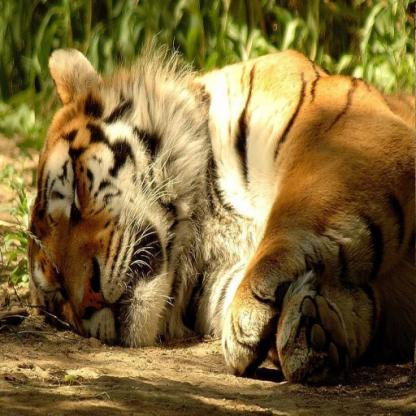Tiger: (19, 34, 415, 384)
